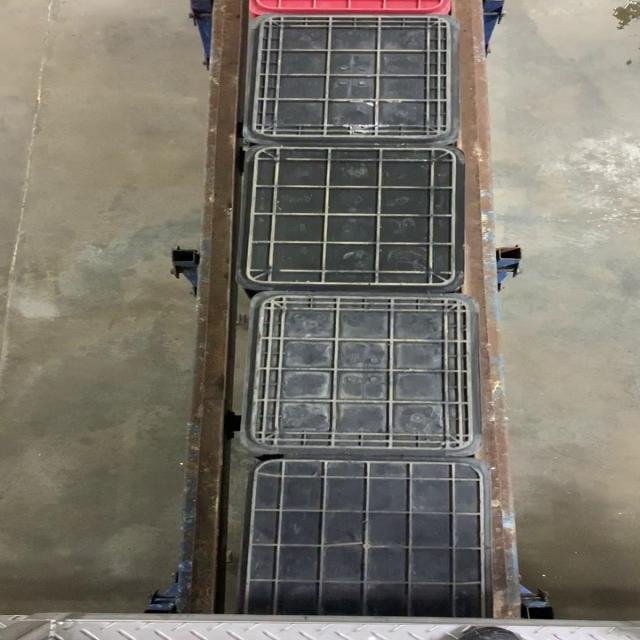Box: (239, 291, 487, 457), (234, 144, 468, 291), (242, 11, 460, 146)
